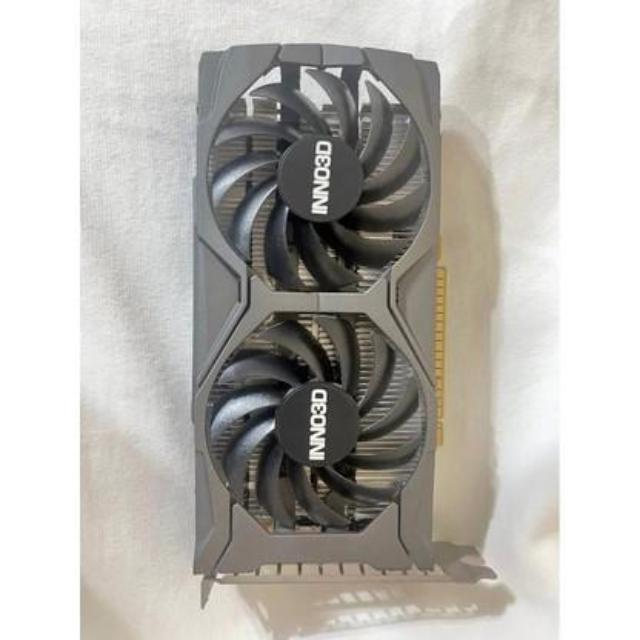GPU: (194, 36, 446, 588)
